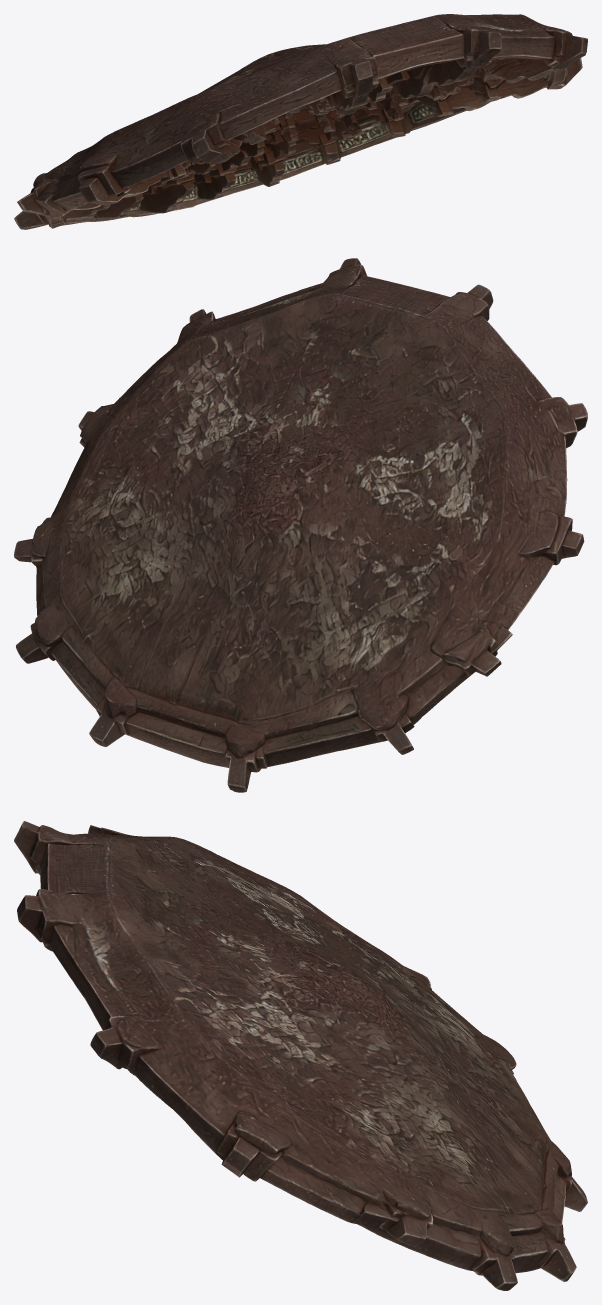
File: gate.glb
3 views of the same model, one above another, from view 1: azimuth 30°, elevation 25°; view 2: azimuth 150°, elevation 25°; view 3: azimuth 270°, elevation 25° (orthographic). The views are drawn at different scales.
Visible parts, largest first — view 1: model; view 2: model; view 3: model.
Boxes of the visible parts, x1,y1,x2,y2 form: model: (14,14,587,229); model: (14,258,587,792); model: (14,821,587,1290).
Size of the model in its own units: 1.9 by 1.22 by 1.65.
1 material, 1 textured.
